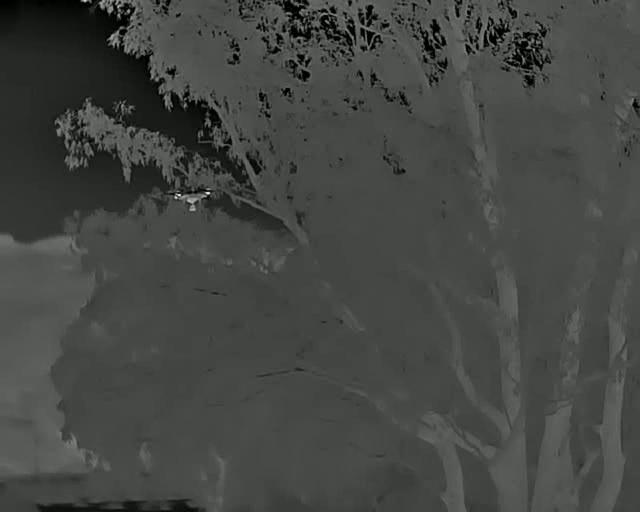DJI-Phantom: (171, 190, 214, 212)
